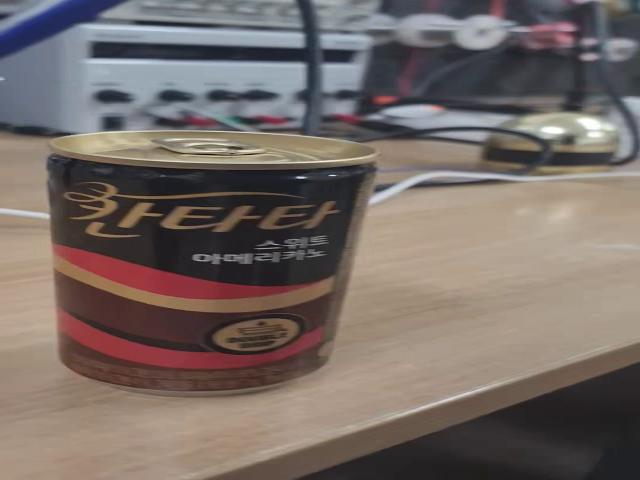Canned_drinks: (46, 127, 352, 395)
